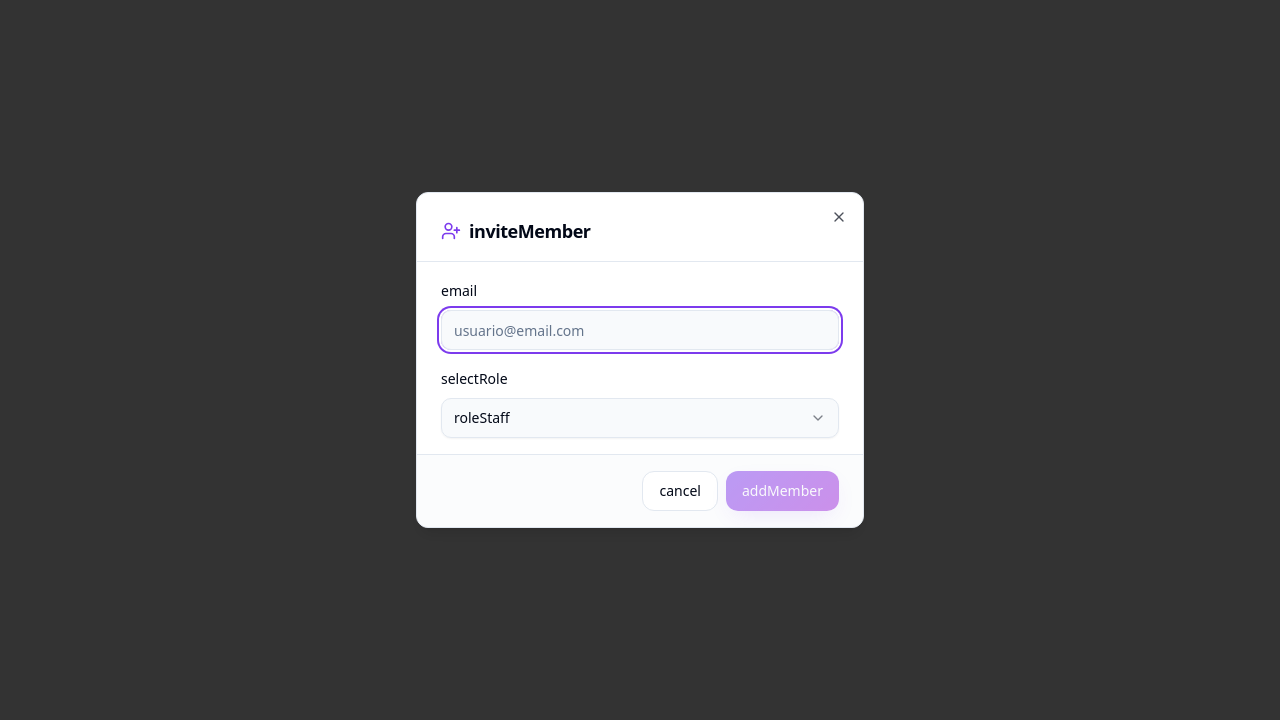
Test case: InviteMemberDialog › should show error when user not found
This screenshot has width=1280, height=720.
Type "notfound@example.com" into the field labelled "email".
click(640, 330); type("notfound@example.com")  # box [441, 310, 839, 350]
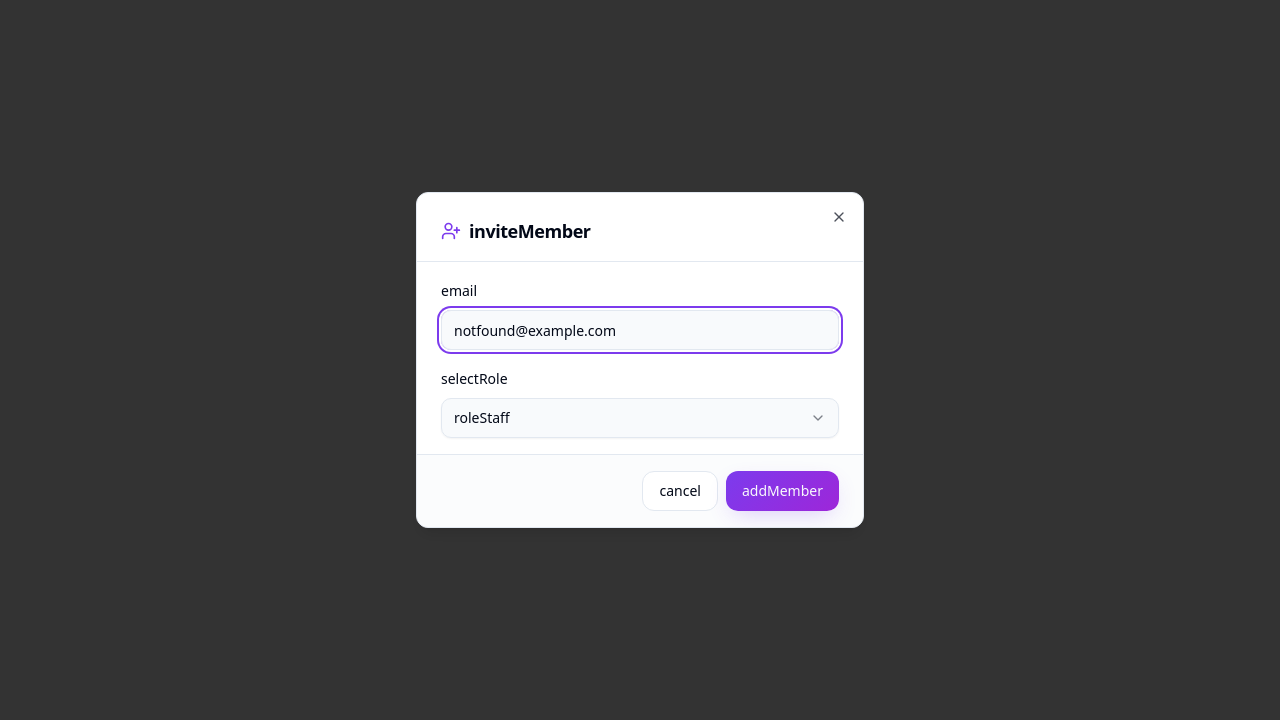
Click the button "addMember".
click(782, 491)  # box [726, 471, 839, 511]
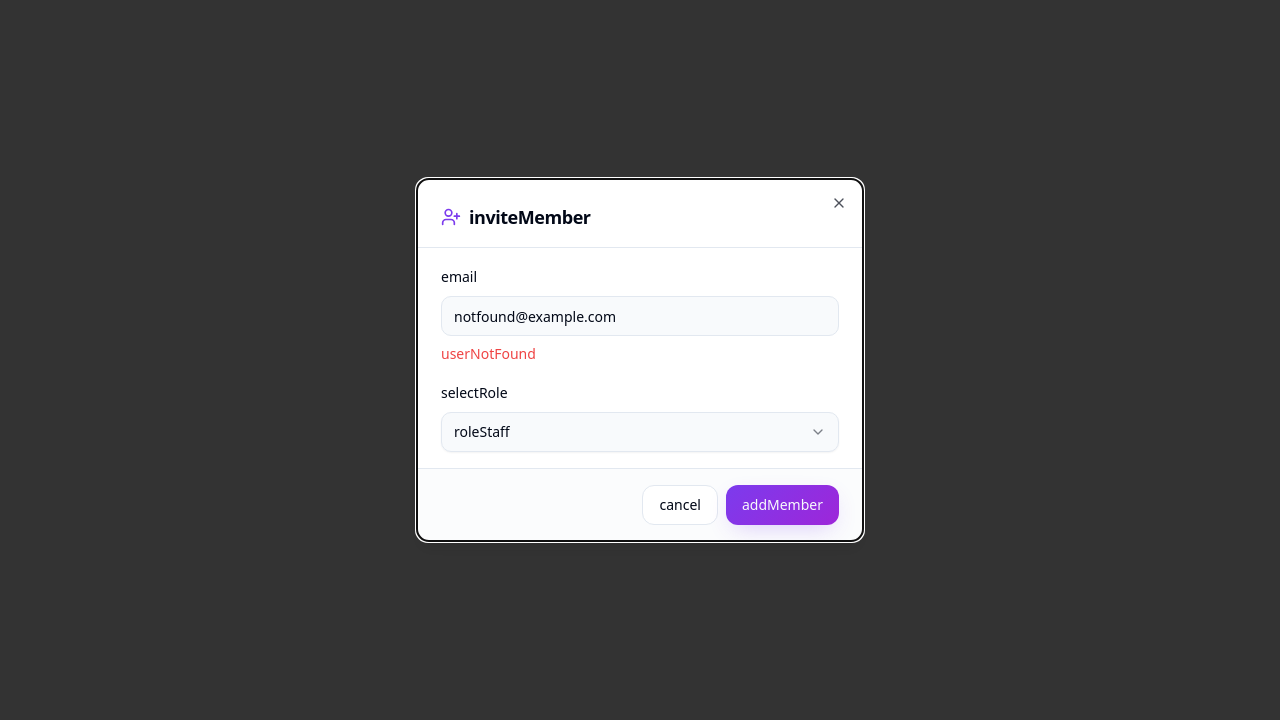
expect the text "userNotFound" is shown: met, box [441, 344, 536, 363]
